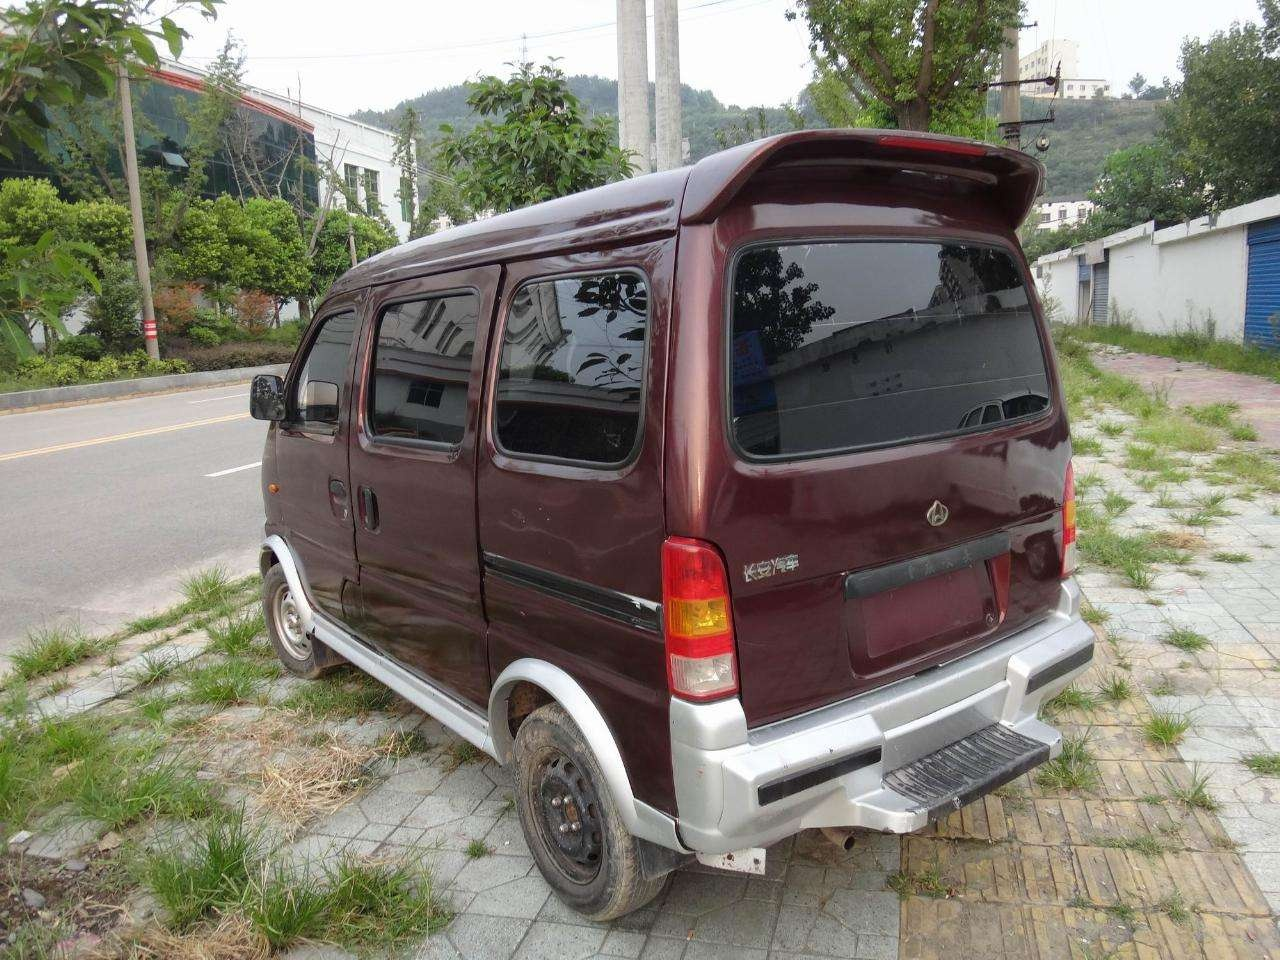minibus: (244, 130, 1110, 911)
